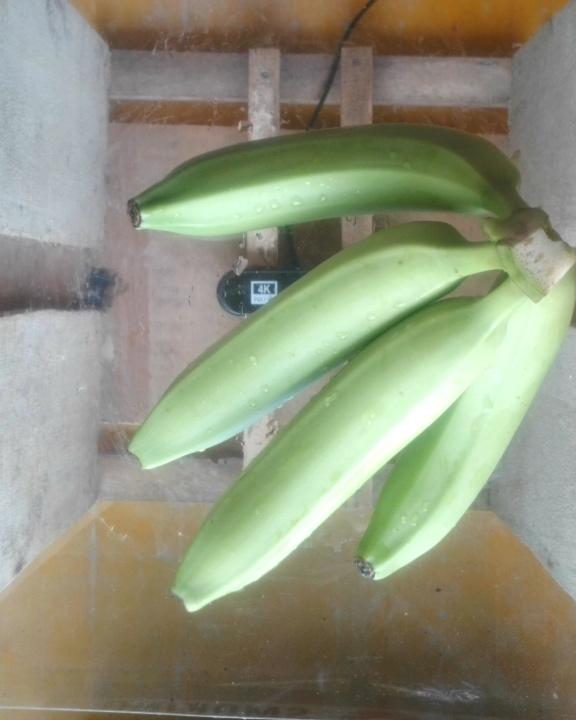SPOT: (86, 117, 576, 626)
